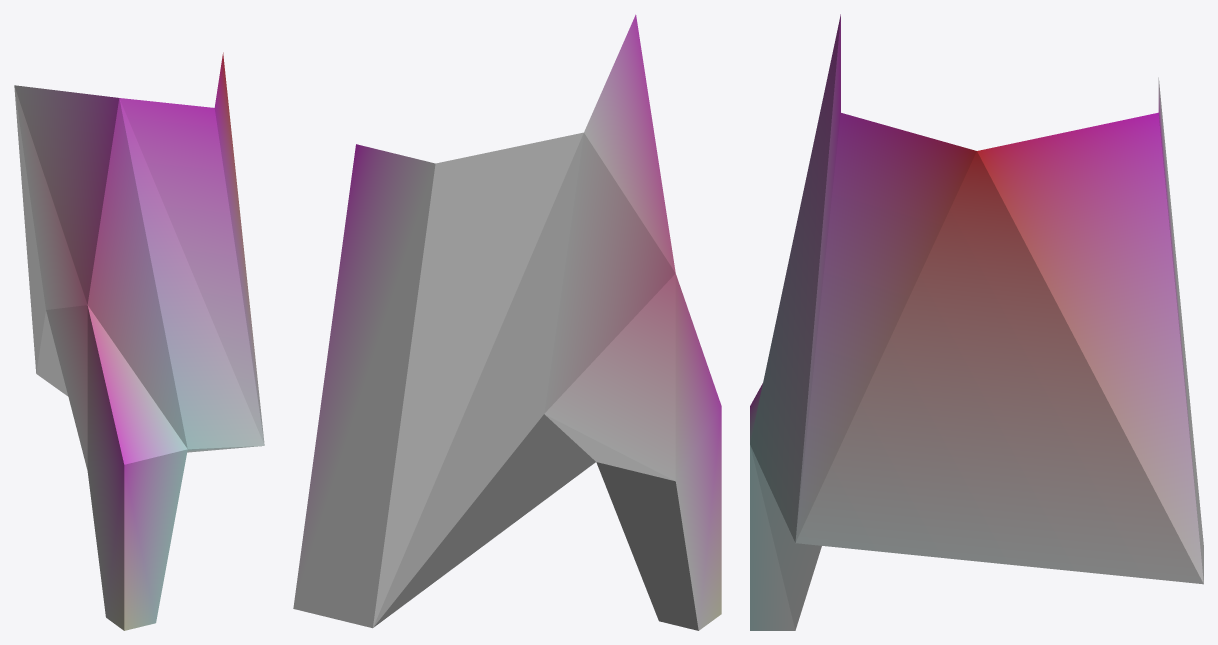
3 renders of one model, left to right at view 1: azimuth 30°, elevation 25°; view 2: azimuth 150°, elevation 25°; view 3: azimuth 270°, elevation 25°, orthographic. The views are drawn at different scales.
Visible parts, largest first — view 1: model_119D; view 2: model_119D; view 3: model_119D.
Part boxes in pixels (box(x1,y1,x2,y2)): model_119D: box(14, 52, 264, 630); model_119D: box(293, 14, 721, 630); model_119D: box(750, 14, 1203, 630).
Bounding box in the file's own units: 6 × 15 × 10.
